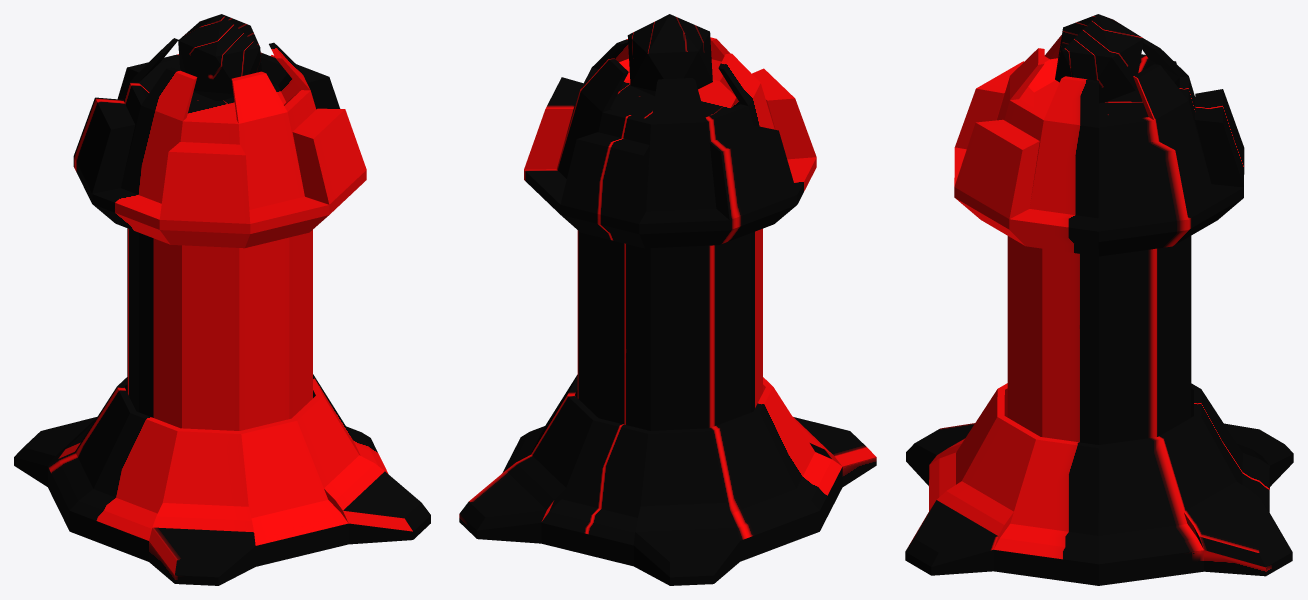
3 views of the same model, side by side, from view 1: azimuth 30°, elevation 25°; view 2: azimuth 150°, elevation 25°; view 3: azimuth 270°, elevation 25° (orthographic). The views are drawn at different scales.
Parts seen in each view (by area): view 1: pCylinder1, pPlatonic1; view 2: pCylinder1, pPlatonic1; view 3: pCylinder1, pPlatonic1.
Boxes of the visible parts, box(x1,y1,x2,y2) form: pCylinder1: box(14, 38, 430, 585); pPlatonic1: box(178, 14, 261, 100); pCylinder1: box(459, 37, 876, 585); pPlatonic1: box(627, 14, 712, 95); pCylinder1: box(905, 35, 1293, 585); pPlatonic1: box(1055, 14, 1143, 103).
Bounding box in the file's own units: 3.2 × 4.9 × 3.47.
